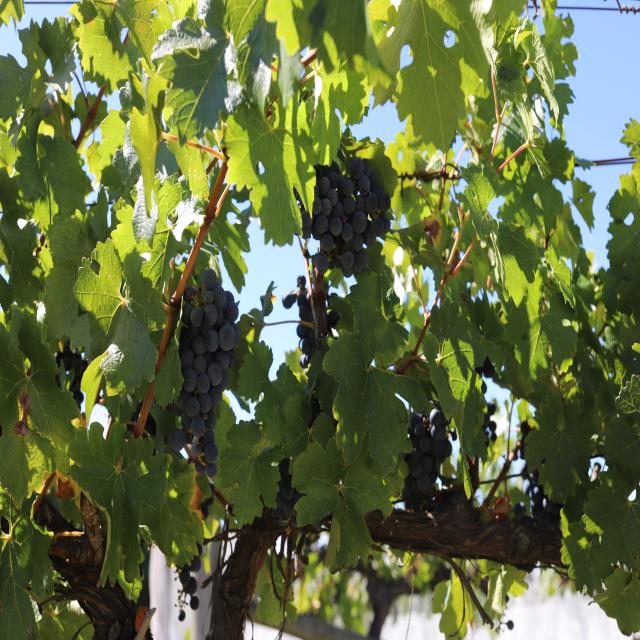grapes: (170, 268, 240, 478), (301, 157, 391, 277), (402, 407, 452, 501), (282, 275, 320, 368), (55, 339, 88, 408), (272, 457, 302, 526)
